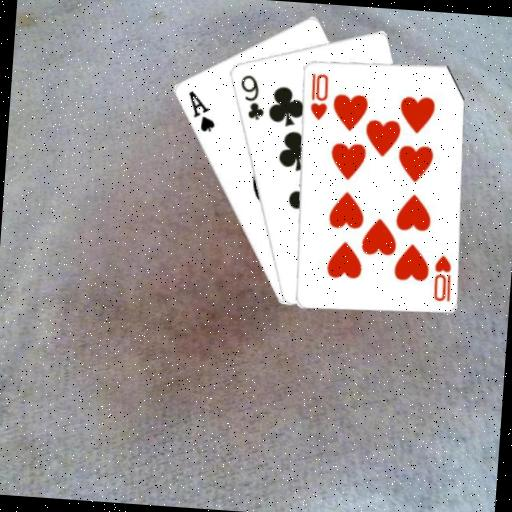10H: (428, 251, 455, 303), (306, 70, 332, 122)
9C: (234, 71, 268, 123)
AS: (182, 87, 219, 134)
